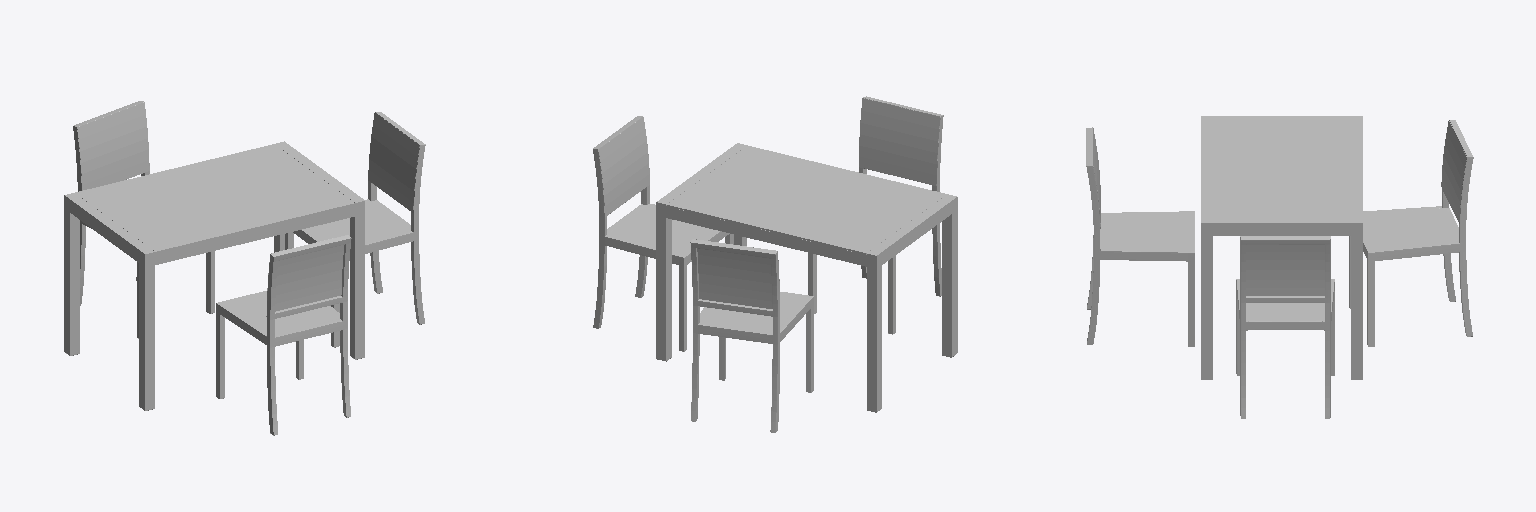
The model's file is white_kitchen_table.obj.
3 views of the same model, side by side, from view 1: azimuth 30°, elevation 25°; view 2: azimuth 150°, elevation 25°; view 3: azimuth 270°, elevation 25° (orthographic).
Parts seen in each view (by area): view 1: glass_table_Cube.002, table_legs_Cube.001, chair_Cube, chair.001_Cube.003, chair.002_Cube.004; view 2: glass_table_Cube.002, table_legs_Cube.001, chair.002_Cube.004, chair.001_Cube.003, chair_Cube; view 3: glass_table_Cube.002, chair.001_Cube.003, chair.002_Cube.004, table_legs_Cube.001, chair_Cube.
Part boxes in pixels (left/top/right/bottom): glass_table_Cube.002: left=75, top=144, right=354, bottom=253; table_legs_Cube.001: left=64, top=141, right=364, bottom=410; chair_Cube: left=216, top=235, right=351, bottom=435; chair.001_Cube.003: left=285, top=112, right=425, bottom=347; chair.002_Cube.004: left=73, top=101, right=214, bottom=338; glass_table_Cube.002: left=667, top=145, right=946, bottom=254; table_legs_Cube.001: left=656, top=143, right=957, bottom=412; chair.002_Cube.004: left=690, top=239, right=813, bottom=432; chair.001_Cube.003: left=593, top=116, right=733, bottom=351; chair_Cube: left=808, top=96, right=943, bottom=334; glass_table_Cube.002: left=1201, top=121, right=1362, bottom=217; chair.001_Cube.003: left=1236, top=236, right=1334, bottom=418; chair.002_Cube.004: left=1349, top=120, right=1473, bottom=346; table_legs_Cube.001: left=1201, top=116, right=1362, bottom=379; chair_Cube: left=1086, top=127, right=1194, bottom=346.
Bounding box in the file's own units: 1.5 × 0.86 × 1.68.